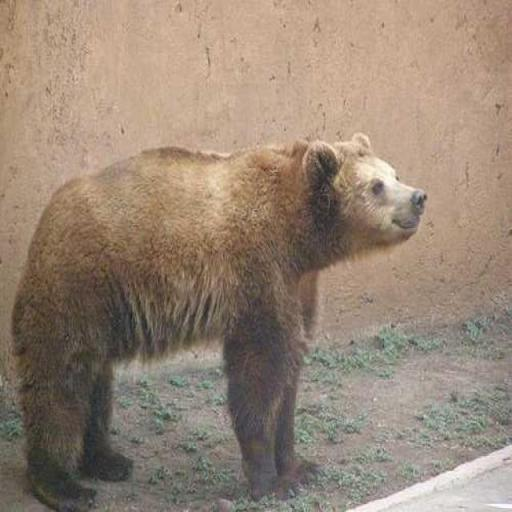Bear: (9, 130, 427, 510)
